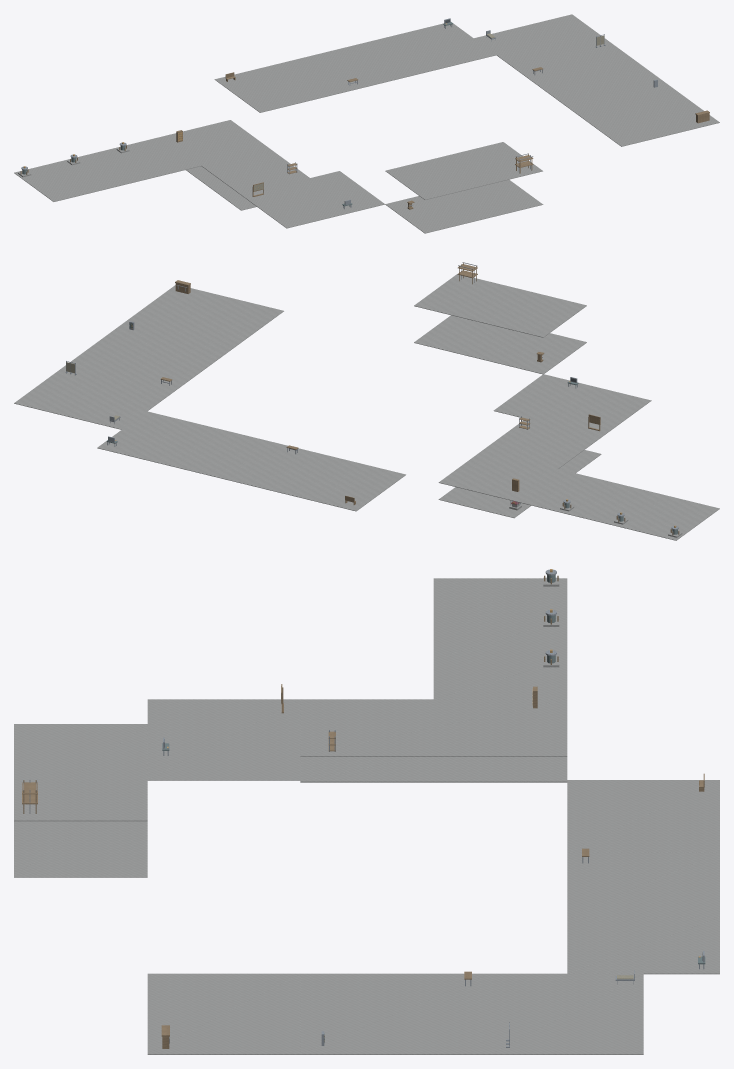
The model's file is castle.glb.
3 views of the same model, one above another, from view 1: azimuth 30°, elevation 25°; view 2: azimuth 150°, elevation 25°; view 3: azimuth 270°, elevation 25° (orthographic). The views are drawn at different scales.
Parts seen in each view (by area): view 1: review_fit_castle; view 2: review_fit_castle; view 3: review_fit_castle.
Boxes of the visible parts, bbox=[...] form: review_fit_castle: bbox=[14, 14, 719, 233]; review_fit_castle: bbox=[14, 262, 719, 540]; review_fit_castle: bbox=[14, 569, 719, 1054].
Bounding box in the file's own units: 118 × 12.37 × 74.
11 materials, 11 textured.
